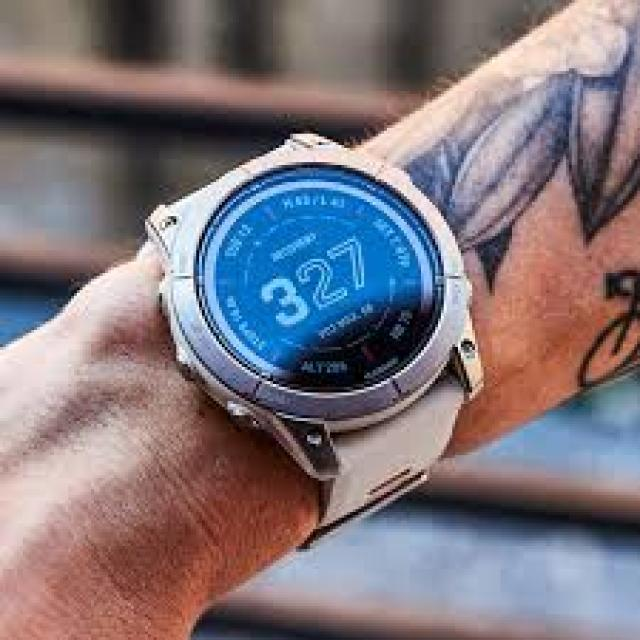objects: (152, 131, 484, 530)
